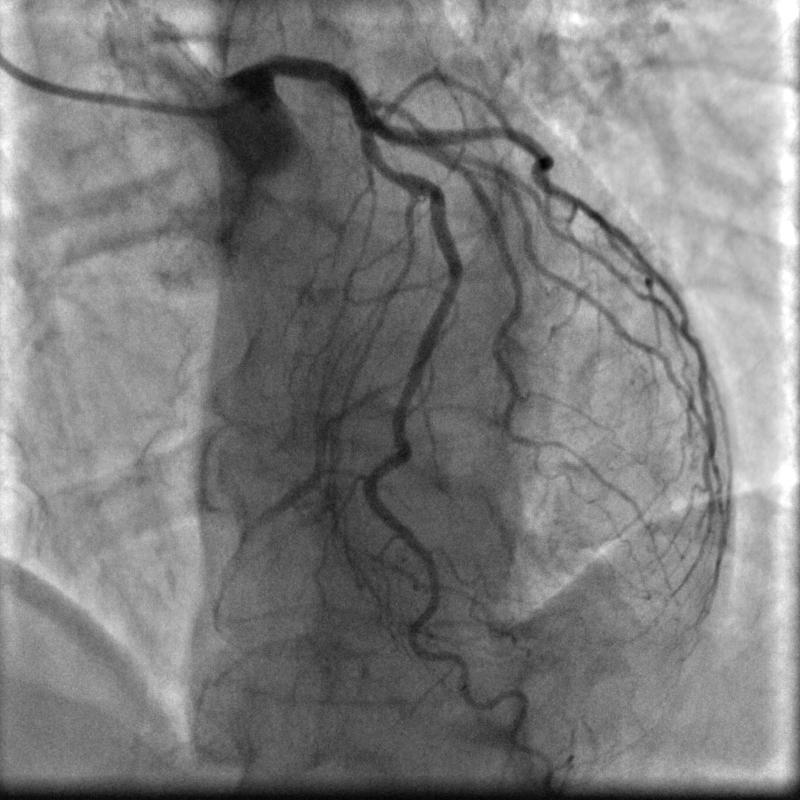Stenosis: (369, 155, 401, 178)
